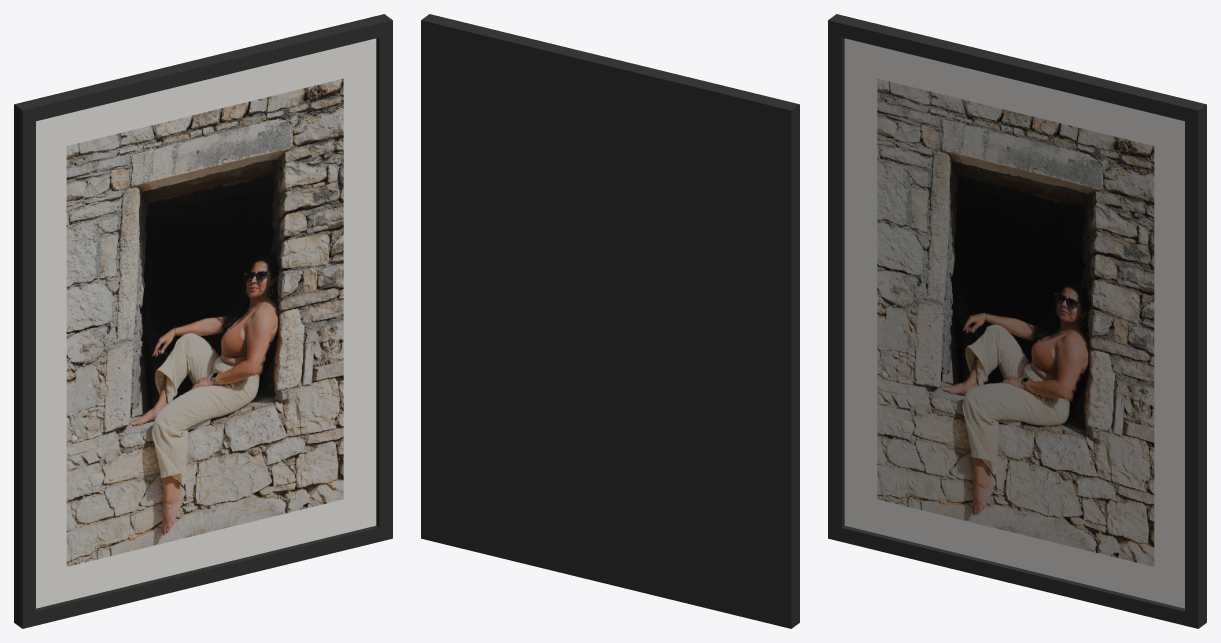
The model's file is i-fonstret-60.gltf.
The picture shows the model from 3 angles, left to right: view 1: azimuth 30°, elevation 25°; view 2: azimuth 150°, elevation 25°; view 3: azimuth 330°, elevation 25°; orthographic projection.
Parts seen in each view (by area): view 1: tavla; view 2: tavla; view 3: tavla.
Boxes of the visible parts, x1,y1,x2,y2 form: tavla: (14,14,392,628); tavla: (421,14,799,628); tavla: (828,14,1206,628).
Size of the model in its own units: 0.5525 by 0.7392 by 0.022.
3 materials, 1 textured.
